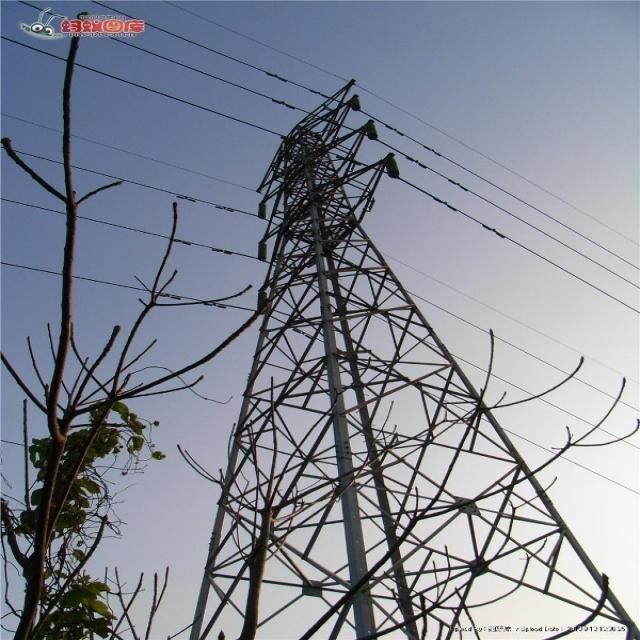non-critical vegetation: (200, 74, 630, 626)
